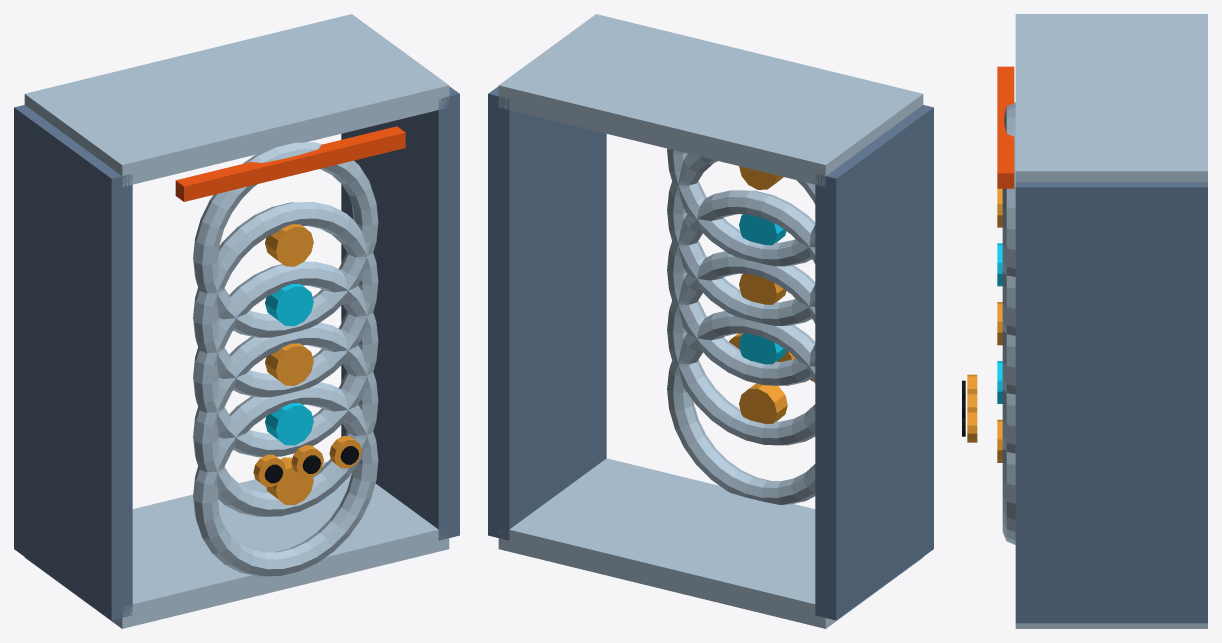
Rendered from 15_L89_ProtonEnergyBinAnalyzer.fbx.
3 renders of one model, left to right at view 1: azimuth 30°, elevation 25°; view 2: azimuth 150°, elevation 25°; view 3: azimuth 270°, elevation 25°, orthographic.
Parts seen in each view (by area): view 1: L87_ProtonEnergyBinAnalyzer_Part_0000, L87_ProtonEnergyBinAnalyzer_Part_0001, L87_ProtonEnergyBinAnalyzer_Part_0002, L87_ProtonEnergyBinAnalyzer_Part_0005, L87_ProtonEnergyBinAnalyzer_Part_0003, L87_ProtonEnergyBinAnalyzer_Part_0004; view 2: L87_ProtonEnergyBinAnalyzer_Part_0000, L87_ProtonEnergyBinAnalyzer_Part_0001, L87_ProtonEnergyBinAnalyzer_Part_0002, L87_ProtonEnergyBinAnalyzer_Part_0003, L87_ProtonEnergyBinAnalyzer_Part_0004; view 3: L87_ProtonEnergyBinAnalyzer_Part_0000, L87_ProtonEnergyBinAnalyzer_Part_0001, L87_ProtonEnergyBinAnalyzer_Part_0002, L87_ProtonEnergyBinAnalyzer_Part_0005, L87_ProtonEnergyBinAnalyzer_Part_0003, L87_ProtonEnergyBinAnalyzer_Part_0004.
Part boxes in pixels (x1,y1,x2,y2): L87_ProtonEnergyBinAnalyzer_Part_0000: (14, 86, 459, 620); L87_ProtonEnergyBinAnalyzer_Part_0001: (24, 14, 449, 628); L87_ProtonEnergyBinAnalyzer_Part_0002: (193, 142, 378, 576); L87_ProtonEnergyBinAnalyzer_Part_0005: (175, 126, 405, 201); L87_ProtonEnergyBinAnalyzer_Part_0003: (265, 224, 313, 505); L87_ProtonEnergyBinAnalyzer_Part_0004: (265, 284, 313, 445); L87_ProtonEnergyBinAnalyzer_Part_0000: (488, 86, 933, 620); L87_ProtonEnergyBinAnalyzer_Part_0001: (498, 14, 923, 628); L87_ProtonEnergyBinAnalyzer_Part_0002: (667, 148, 815, 504); L87_ProtonEnergyBinAnalyzer_Part_0003: (739, 166, 787, 423); L87_ProtonEnergyBinAnalyzer_Part_0004: (739, 214, 786, 364); L87_ProtonEnergyBinAnalyzer_Part_0000: (1015, 182, 1207, 623); L87_ProtonEnergyBinAnalyzer_Part_0001: (1015, 14, 1207, 628); L87_ProtonEnergyBinAnalyzer_Part_0002: (1002, 102, 1015, 544); L87_ProtonEnergyBinAnalyzer_Part_0005: (997, 66, 1014, 188); L87_ProtonEnergyBinAnalyzer_Part_0003: (997, 188, 1002, 462); L87_ProtonEnergyBinAnalyzer_Part_0004: (997, 243, 1002, 403).
Size of the model in its own units: 165 by 210 by 102.
